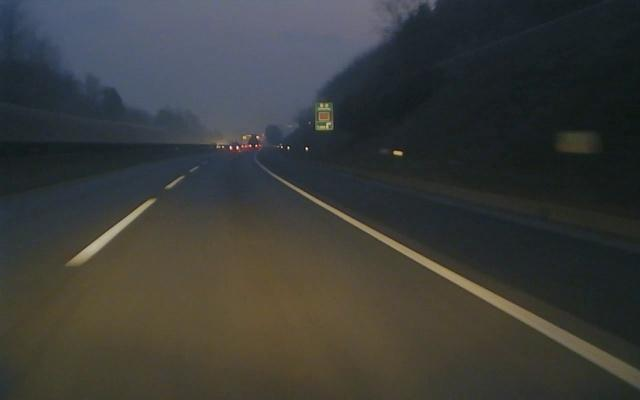lane: (280, 179, 640, 389), (68, 176, 185, 268)
